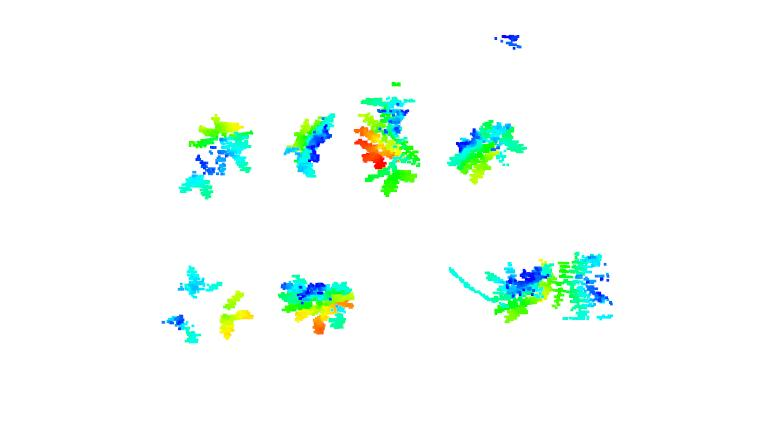chickpea: (159, 265, 257, 346), (353, 91, 422, 197), (174, 112, 259, 198), (443, 119, 530, 183), (544, 251, 615, 325), (278, 272, 352, 335), (481, 260, 549, 325), (281, 110, 338, 182)
